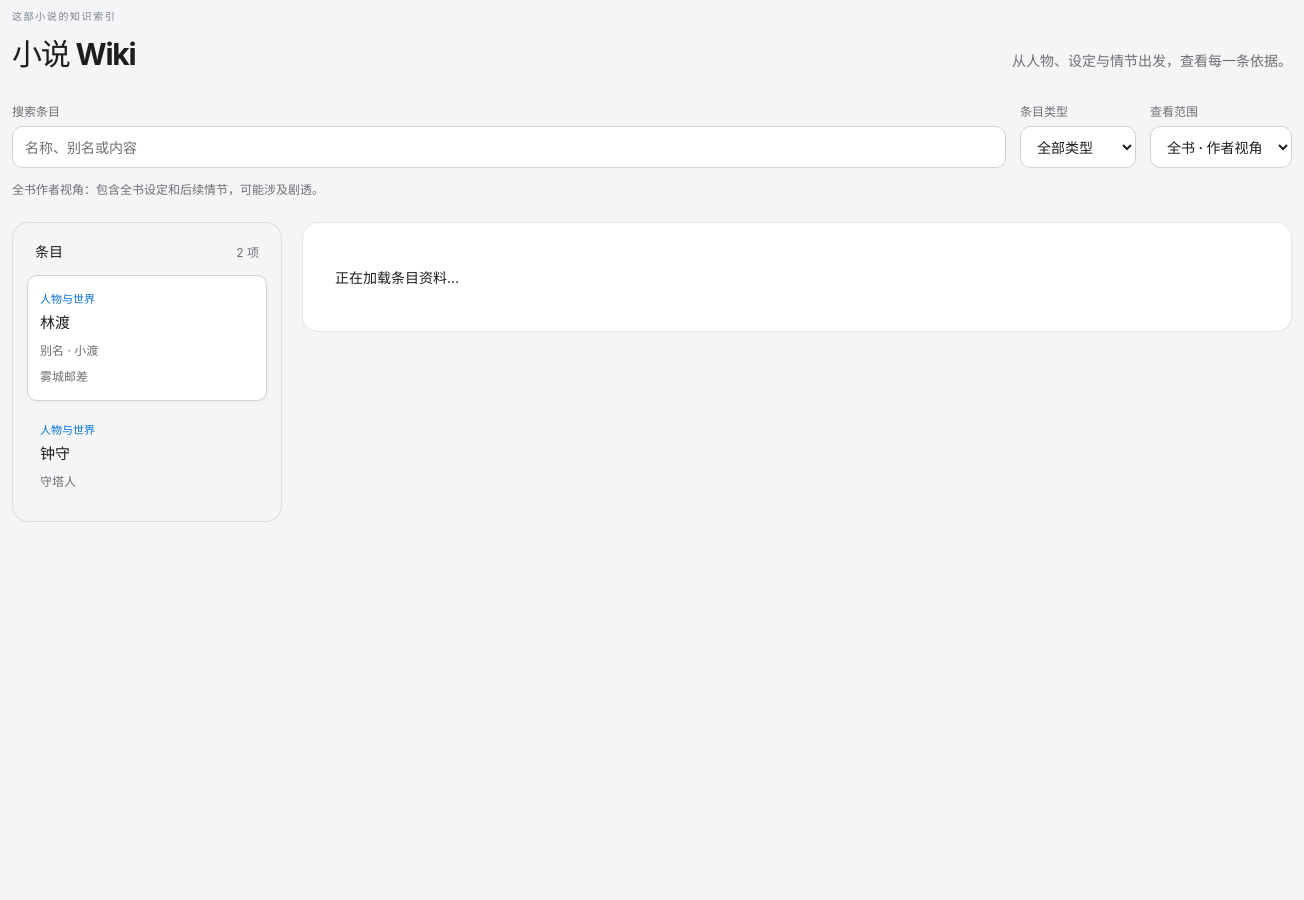
Test: does not replace a new selection with a late old-entry response
The width and height of the screenshot is (1304, 900).
Step 1. Click the button "人物与世界 钟守 守塔人" → (147, 457), box left=27, top=406, right=267, bottom=507
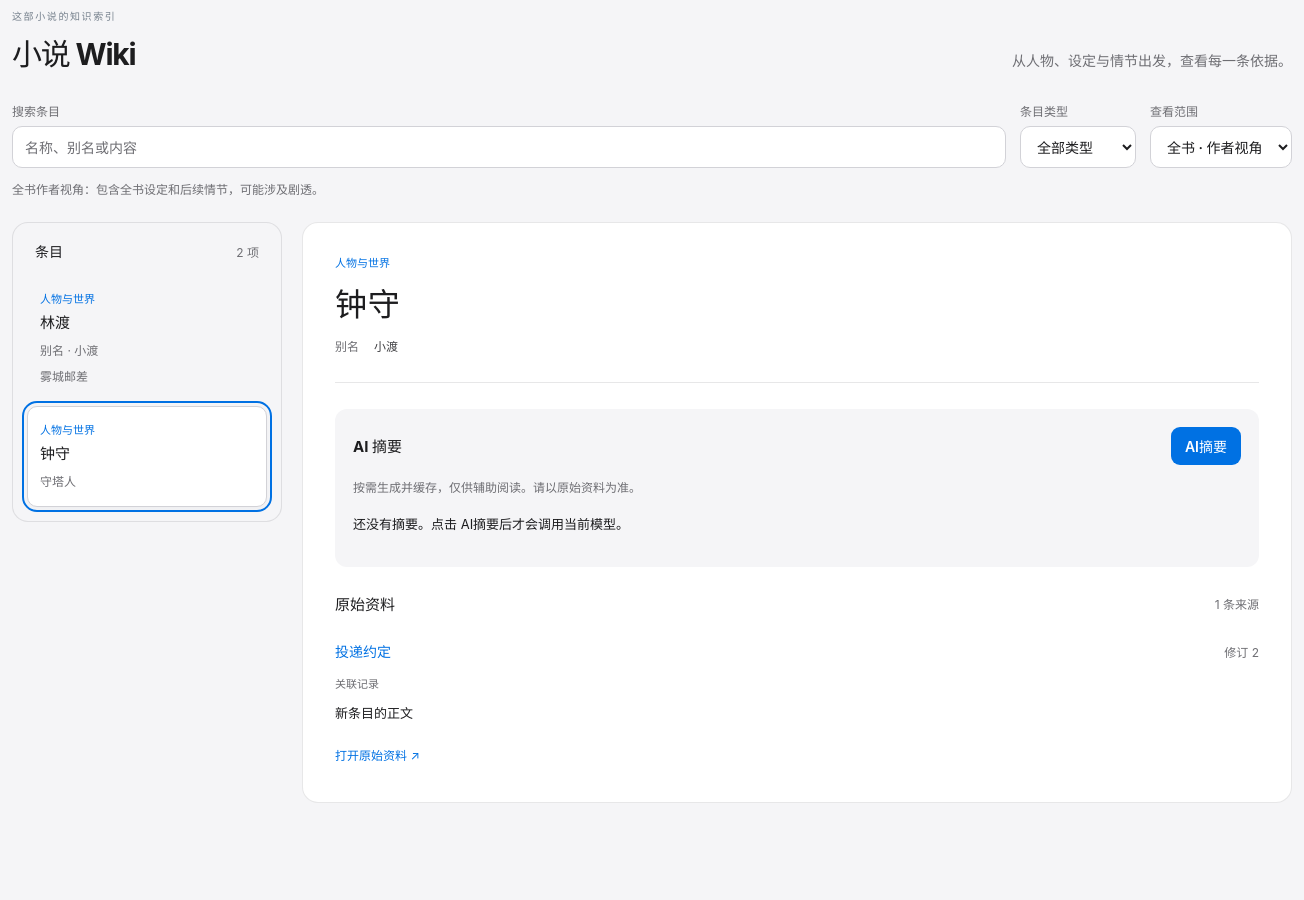
expect the text "新条目的正文" is shown: met, box left=335, top=705, right=413, bottom=721
